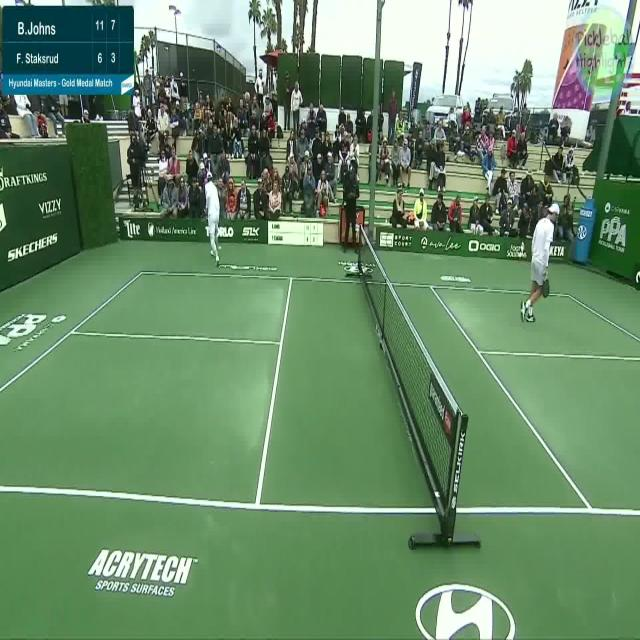ball: (218, 243, 224, 251)
